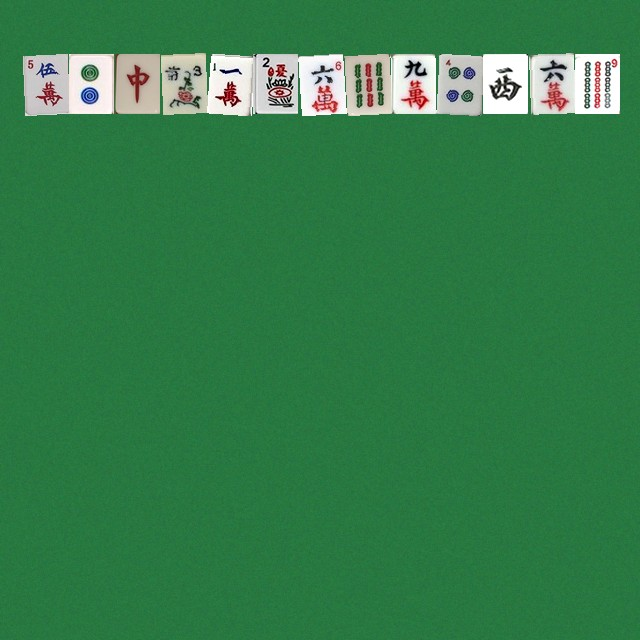tile: (22, 53, 67, 113), (68, 53, 113, 113), (114, 53, 159, 113), (160, 53, 205, 113), (206, 53, 251, 113), (252, 53, 297, 113), (298, 53, 343, 113), (344, 53, 389, 113), (390, 53, 435, 113), (436, 53, 481, 113), (482, 53, 527, 113), (528, 53, 573, 113), (574, 53, 619, 113)
